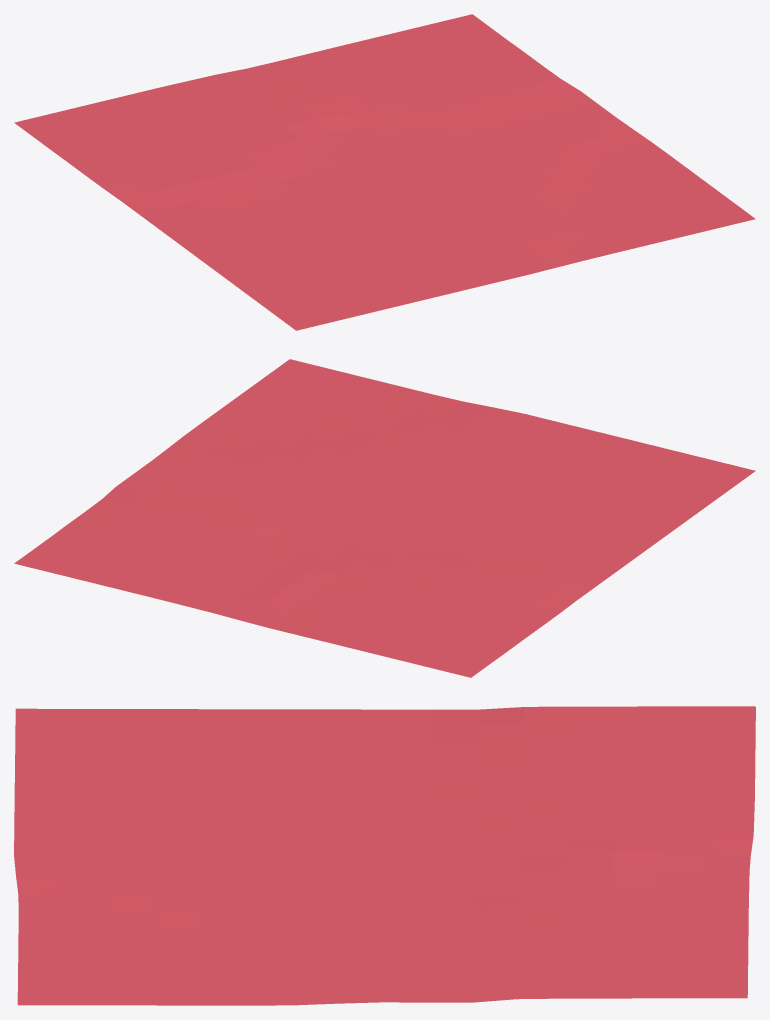
File: Carpet.fbx
3 renders of one model, top to bottom at view 1: azimuth 30°, elevation 25°; view 2: azimuth 150°, elevation 25°; view 3: azimuth 270°, elevation 25°, orthographic. The views are drawn at different scales.
Parts seen in each view (by area): view 1: Carpet; view 2: Carpet; view 3: Carpet.
Part boxes in pixels (x1=…): Carpet: x1=14, y1=14, x2=755, y2=330; Carpet: x1=14, y1=359, x2=755, y2=677; Carpet: x1=14, y1=706, x2=755, y2=1005.
Size of the model in its own units: 743 by 5.49 by 788.
